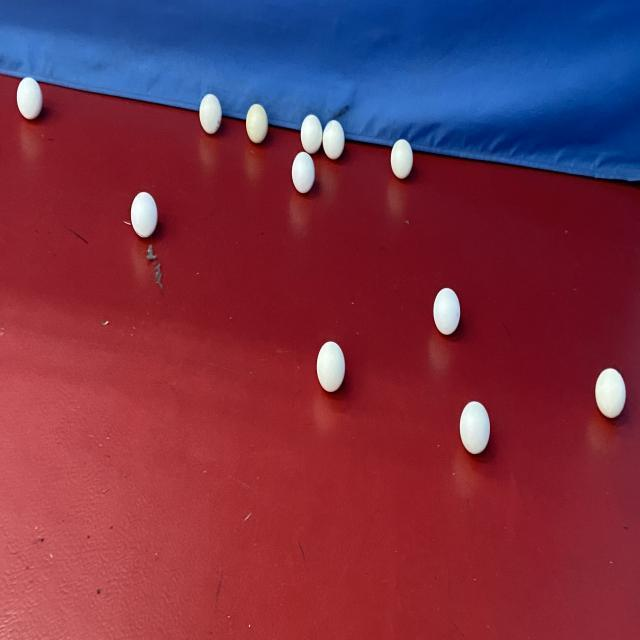ping-pong-ball: (591, 360, 630, 424), (456, 402, 493, 456), (314, 338, 348, 394), (430, 285, 464, 341), (128, 186, 160, 240), (14, 72, 46, 124), (198, 88, 225, 140), (243, 98, 270, 148), (290, 149, 316, 199), (389, 134, 415, 182), (297, 112, 324, 156), (322, 114, 346, 162)
